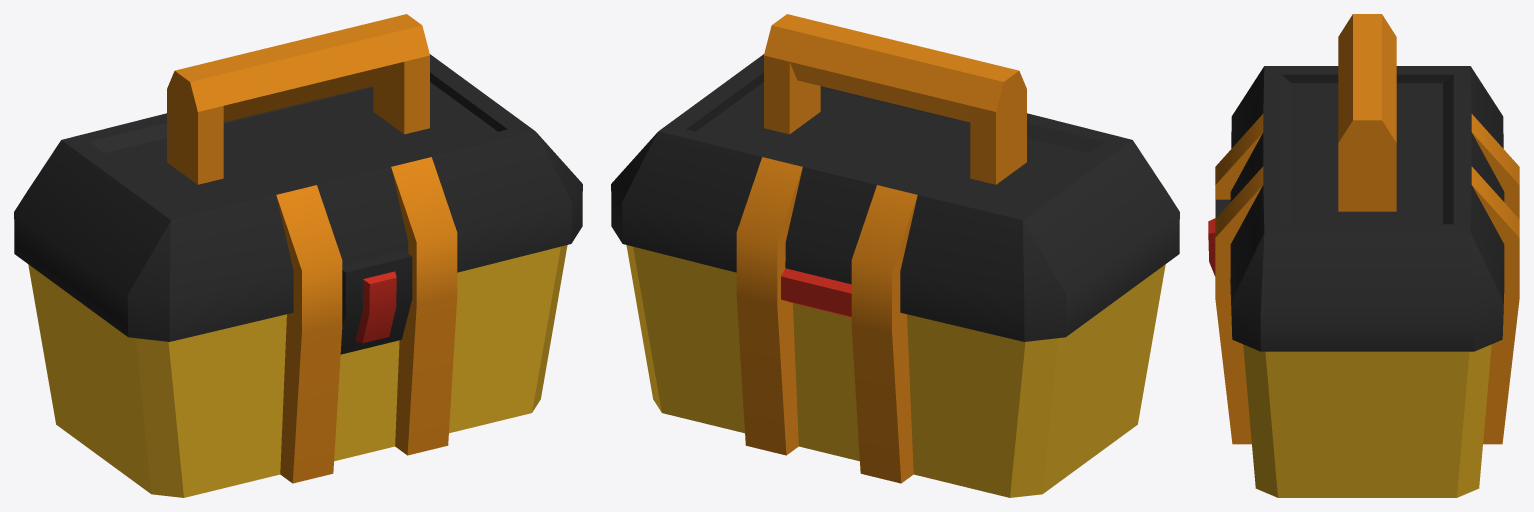
The model's file is mesh_toolbox.fbx.
3 views of the same model, side by side, from view 1: azimuth 30°, elevation 25°; view 2: azimuth 150°, elevation 25°; view 3: azimuth 270°, elevation 25° (orthographic). The views are drawn at different scales.
Visible parts, largest first — view 1: mesh_toolbox_01; view 2: mesh_toolbox_01; view 3: mesh_toolbox_01.
Part boxes in pixels (<box>): mesh_toolbox_01: <box>14,14,582,497</box>; mesh_toolbox_01: <box>611,14,1179,497</box>; mesh_toolbox_01: <box>1208,14,1519,497</box>.
Bounding box in the file's own units: 15.47 × 11.82 × 9.77.
